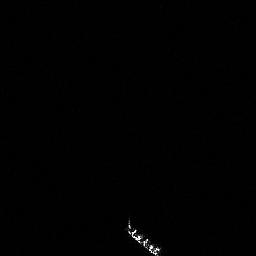ship: (121, 214, 166, 256)
